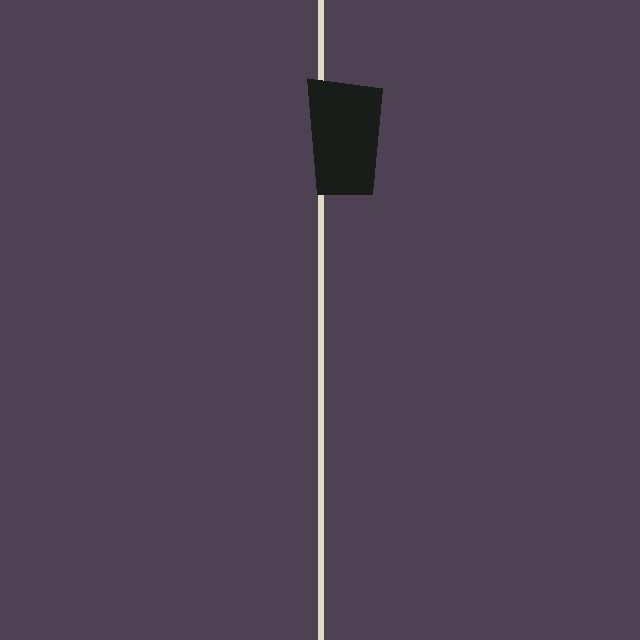damaged_surface: (307, 78, 382, 194)
